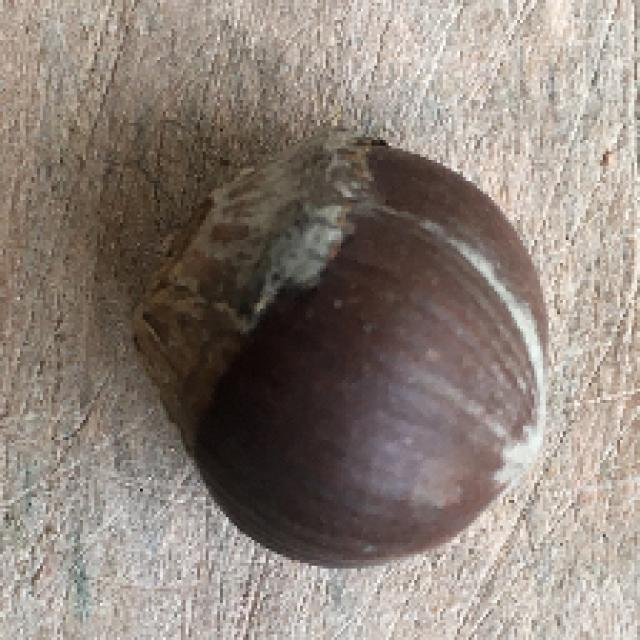damagedHazelnut: (129, 122, 562, 568)
